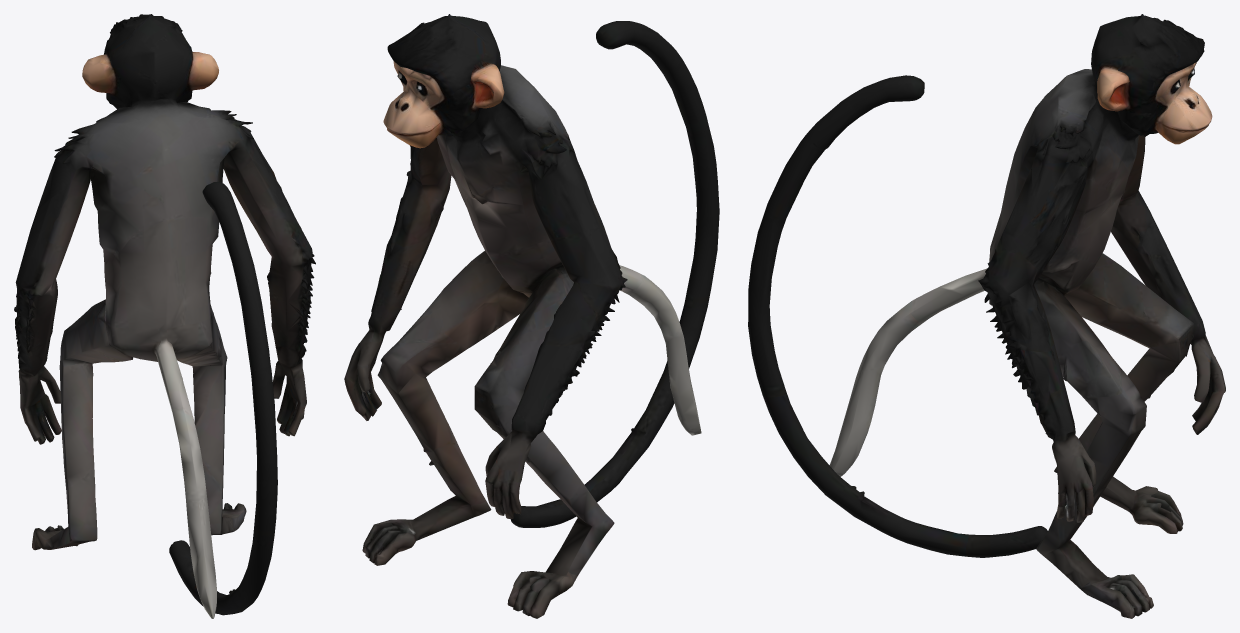
File: monkey.glb
3 renders of one model, left to right at view 1: azimuth 30°, elevation 25°; view 2: azimuth 150°, elevation 25°; view 3: azimuth 270°, elevation 25°, orthographic. The views are drawn at different scales.
Parts seen in each view (by area): view 1: tripo_node_98bec828-6b20-4391-a323-f9edc4570620; view 2: tripo_node_98bec828-6b20-4391-a323-f9edc4570620; view 3: tripo_node_98bec828-6b20-4391-a323-f9edc4570620.
Part boxes in pixels (x1,y1,x2,y2): tripo_node_98bec828-6b20-4391-a323-f9edc4570620: (14, 14, 315, 618); tripo_node_98bec828-6b20-4391-a323-f9edc4570620: (344, 14, 719, 618); tripo_node_98bec828-6b20-4391-a323-f9edc4570620: (748, 14, 1225, 618).
Bounding box in the file's own units: 0.5331 × 0.9995 × 0.7716.
Materials: 1 (1 with a texture image).
